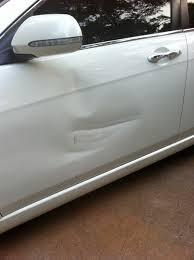doorouter-dent: (32, 60, 163, 196)
